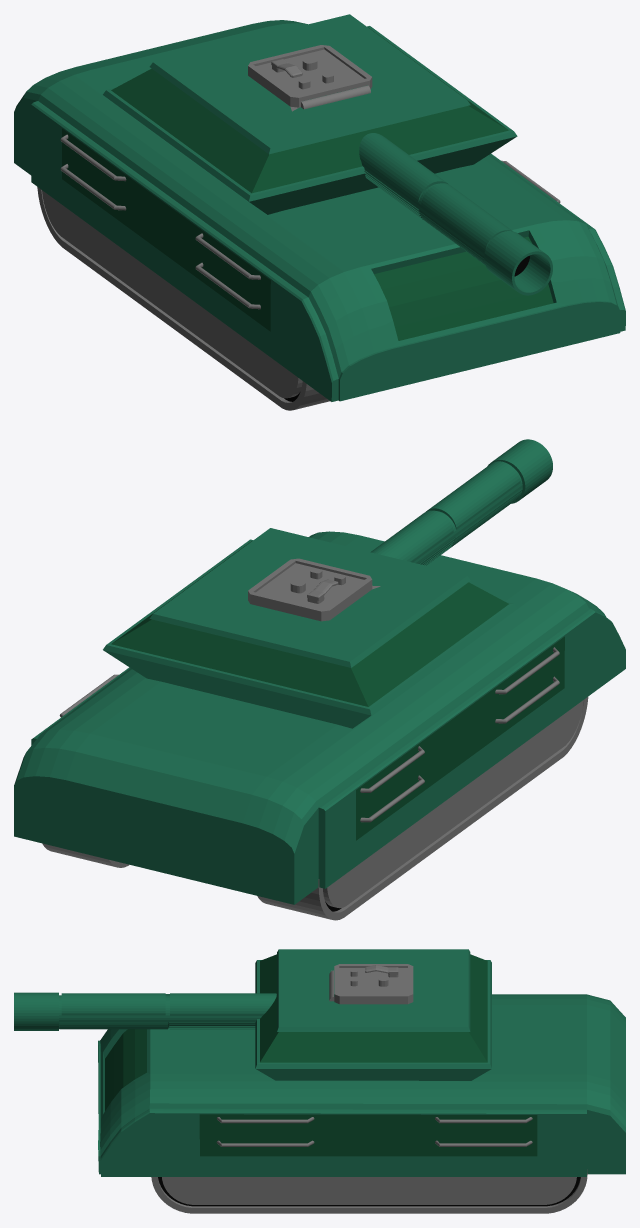
The model's file is Tankfbx.fbx.
3 renders of one model, top to bottom at view 1: azimuth 30°, elevation 25°; view 2: azimuth 150°, elevation 25°; view 3: azimuth 270°, elevation 25°, orthographic. The views are drawn at different scales.
Visible parts, largest first — view 1: Cube, Cube.001, Cylinder, Cylinder.002; view 2: Cube, Cube.001, Cylinder, Cylinder.002; view 3: Cube, Cube.001, Cylinder.001, Cylinder.002, Cylinder.003, Cylinder.004, Cylinder.008, Cylinder.007.
Boxes of the visible parts, box(x1,y1,x2,y2) form: Cube: box(14, 20, 625, 401); Cube.001: box(103, 14, 517, 214); Cylinder: box(37, 187, 329, 410); Cylinder.002: box(359, 133, 552, 295); Cube: box(14, 531, 625, 904); Cube.001: box(103, 528, 517, 728); Cylinder: box(257, 697, 588, 920); Cylinder.002: box(370, 439, 552, 565); Cube: box(98, 994, 625, 1176); Cube.001: box(255, 949, 491, 1080); Cylinder.001: box(151, 1169, 587, 1213); Cylinder.002: box(14, 992, 276, 1030); Cylinder.003: box(216, 1117, 314, 1123); Cylinder.004: box(435, 1117, 532, 1123); Cylinder.008: box(435, 1140, 532, 1146); Cylinder.007: box(216, 1140, 314, 1146).
Bounding box in the file's own units: 667 × 466 × 1402.
